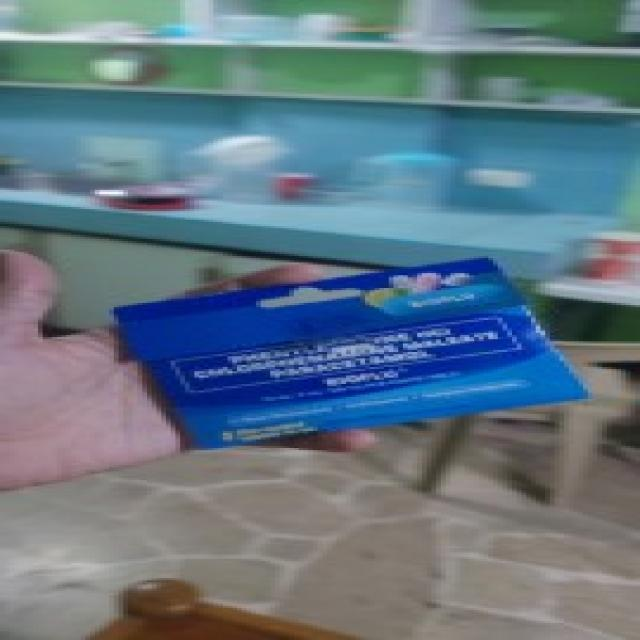Cacat: (107, 255, 581, 450)
